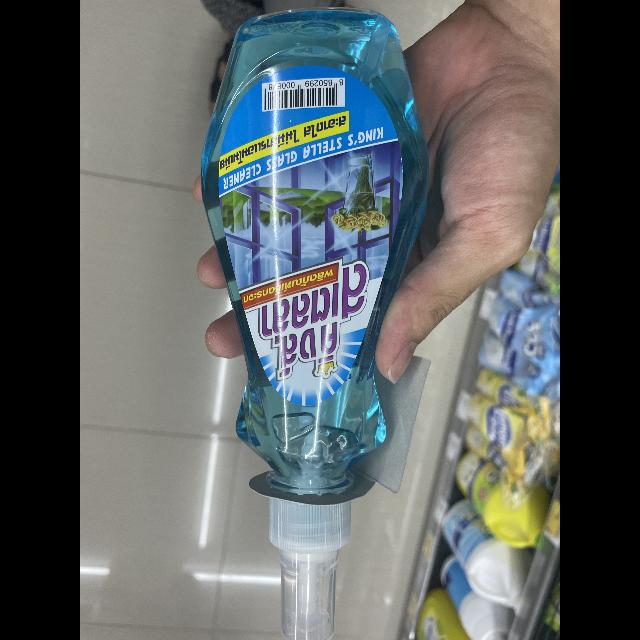chemical_plastic_bottle: (194, 0, 428, 640)
